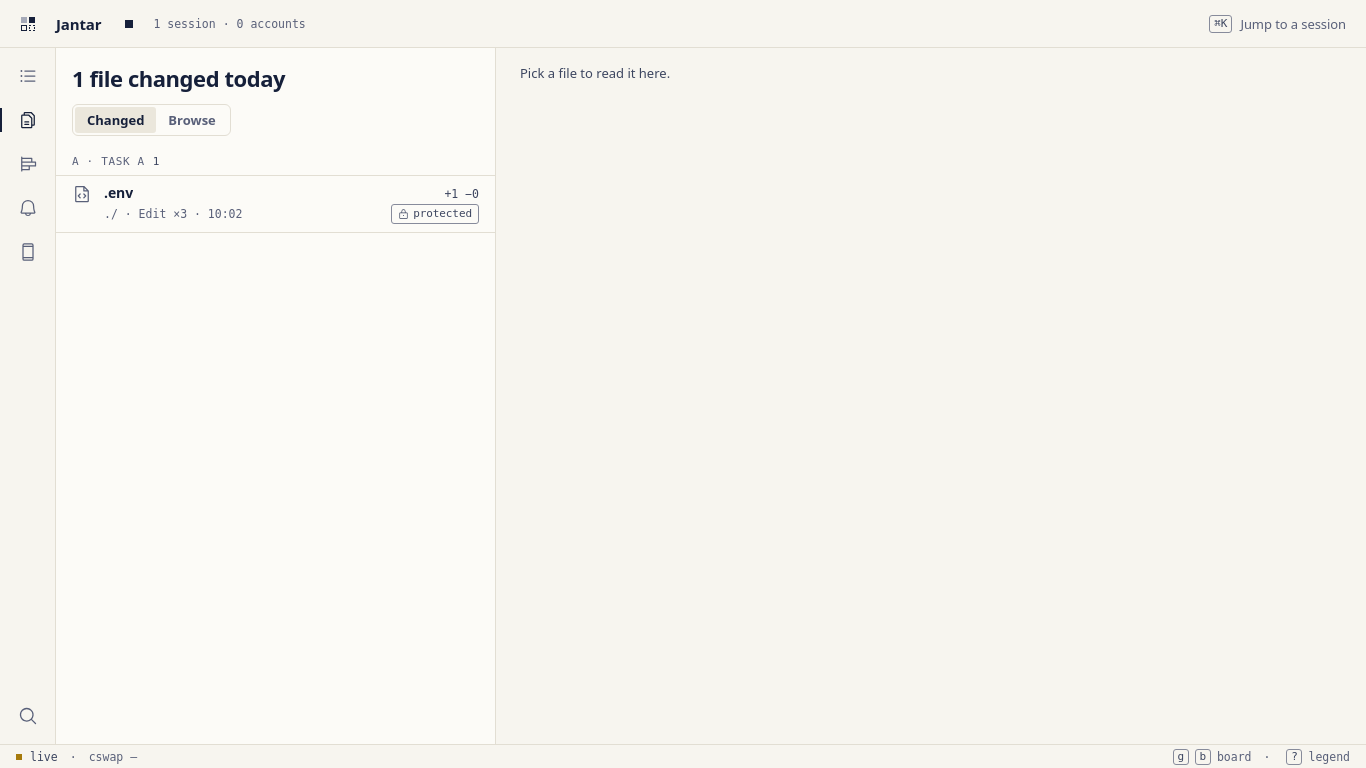
Test case: the Files place: changed files › a protected row says why instead of opening a viewer
Click the button ".env +1 −0 ./ · Edit ×3 · 10:02 protected" at (462, 194), box [56, 176, 495, 232]
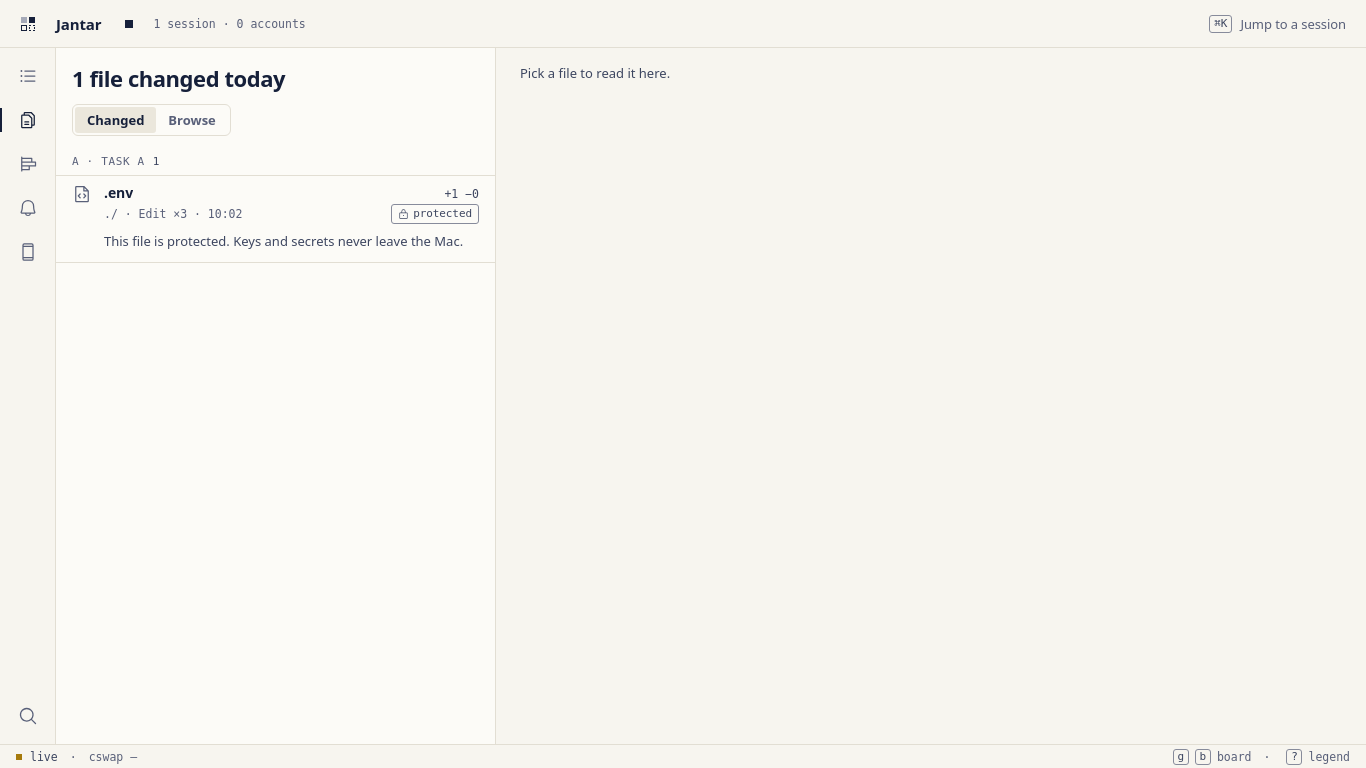
Expected: the text "This file is protected. Keys and secrets never leave the Mac." is shown, [104, 232, 463, 250]
